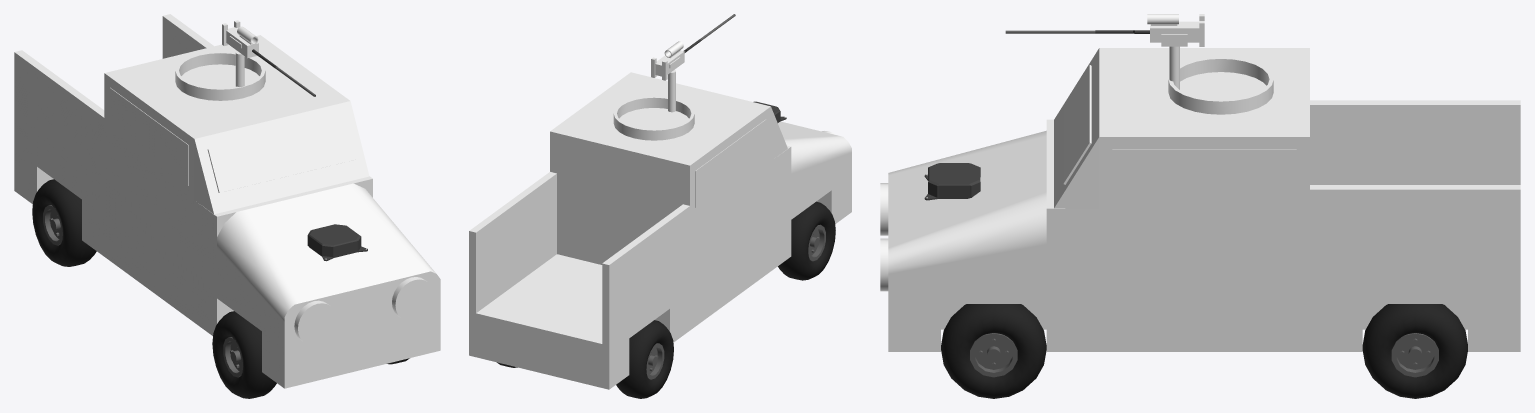
The model's file is Jihad Deliverer_export.obj.
3 views of the same model, side by side, from view 1: azimuth 30°, elevation 25°; view 2: azimuth 150°, elevation 25°; view 3: azimuth 270°, elevation 25° (orthographic). The views are drawn at different scales.
Visible parts, largest first — view 1: Mesh_0, Mesh_2, Mesh_6, Mesh_5, Mesh_7, Mesh_14, Mesh_15, Mesh_1, TireNormal_21, TireNormal_25, Mesh_12, Mesh_35 (+9 smaller); view 2: Mesh_5, Mesh_6, Mesh_2, Mesh_0, Mesh_15, Mesh_4, TireNormal_25, TireNormal_21, Mesh_8, Mesh_35, Mesh_11, Mesh_12 (+5 smaller); view 3: Mesh_5, Mesh_2, Mesh_0, Mesh_6, Mesh_16, TireNormal_33, TireNormal_29, Mesh_7, Mesh_35, Mesh_10, Mesh_11, Mesh_13 (+7 smaller).
Part boxes in pixels (x1,y1,x2,y2): Mesh_0: (217, 183, 440, 347); Mesh_2: (104, 134, 372, 335); Mesh_6: (104, 35, 349, 199); Mesh_5: (14, 14, 213, 215); Mesh_7: (194, 101, 369, 214); Mesh_14: (207, 116, 355, 192); Mesh_15: (109, 87, 188, 185); Mesh_1: (323, 319, 401, 378); TireNormal_21: (212, 311, 276, 398); TireNormal_25: (32, 179, 96, 266); Mesh_12: (262, 331, 323, 388); Mesh_35: (175, 51, 265, 100); Mesh_5: (469, 172, 689, 352); Mesh_6: (550, 72, 770, 220); Mesh_2: (557, 145, 791, 330); Mesh_0: (778, 121, 851, 219); Mesh_15: (695, 119, 766, 207); Mesh_4: (504, 327, 574, 380); TireNormal_25: (616, 320, 673, 398); TireNormal_21: (778, 201, 835, 280); Mesh_8: (574, 339, 629, 389); Mesh_35: (613, 96, 694, 140); Mesh_11: (469, 319, 503, 363); Mesh_12: (816, 175, 851, 223); Mesh_5: (1310, 100, 1520, 303); Mesh_2: (1046, 119, 1309, 351); Mesh_0: (888, 130, 1046, 303); Mesh_6: (1099, 48, 1309, 208); Mesh_16: (1112, 149, 1296, 196); TireNormal_33: (941, 304, 1046, 398); TireNormal_29: (1362, 304, 1467, 398); Mesh_7: (1054, 48, 1099, 208); Mesh_35: (1168, 57, 1273, 114); Mesh_10: (1310, 304, 1362, 351); Mesh_11: (1468, 304, 1520, 351); Mesh_13: (888, 304, 940, 351).
Bounding box in the file's own units: 1.13 × 1.79 × 3.04.
2 materials, 2 textured.
